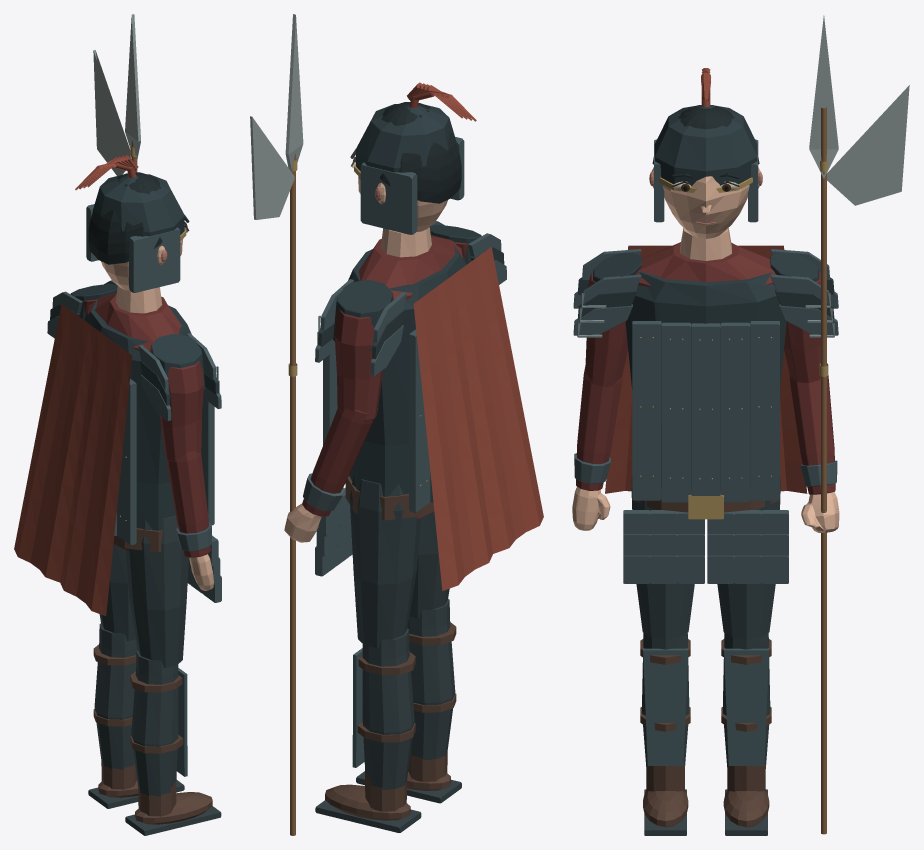
File: night_guard.glb
The picture shows the model from 3 angles, left to right: view 1: azimuth 30°, elevation 25°; view 2: azimuth 150°, elevation 25°; view 3: azimuth 270°, elevation 25°; orthographic projection. The views are drawn at different scales.
Parts seen in each view (by area): view 1: Cape, Chest, Head, Arm_L, Shin_L, Leg_L, Shin_R, Halberd, Fore_L, Foot_L, Leg_R, Foot_R (+3 smaller); view 2: Cape, Chest, Head, Leg_R, Halberd, Arm_R, Shin_R, Shin_L, Fore_R, Foot_R, Leg_L, Tasset_R (+3 smaller); view 3: Chest, Head, Halberd, Arm_L, Shin_R, Shin_L, Arm_R, Tasset_L, Tasset_R, Cape, Fore_L, Fore_R (+6 smaller).
Part boxes in pixels (box(x1,y1,x2,y2)): Cape: box(14, 304, 132, 616); Chest: box(84, 286, 214, 552); Head: box(75, 154, 189, 292); Arm_L: box(138, 333, 221, 461); Shin_L: box(130, 650, 187, 796); Leg_L: box(126, 515, 188, 667); Shin_R: box(93, 623, 137, 769); Halberd: box(93, 14, 140, 175); Fore_L: box(166, 450, 211, 557); Foot_L: box(125, 776, 221, 835); Leg_R: box(99, 544, 135, 640); Foot_R: box(88, 760, 184, 808); Cape: box(413, 247, 543, 590); Chest: box(323, 227, 466, 520); Head: box(350, 82, 476, 234); Leg_R: box(349, 474, 420, 647); Halberd: box(250, 14, 303, 835); Arm_R: box(315, 279, 406, 420); Shin_R: box(352, 628, 415, 789); Shin_L: box(407, 599, 456, 760); Fore_R: box(302, 408, 378, 516); Foot_R: box(315, 771, 421, 832); Leg_L: box(409, 511, 449, 618); Tasset_R: box(315, 487, 352, 576); Chest: box(625, 228, 786, 519); Head: box(649, 68, 762, 238); Halberd: box(809, 15, 909, 834); Arm_L: box(573, 249, 641, 386); Shin_R: box(721, 633, 771, 768); Shin_L: box(640, 633, 690, 766); Arm_R: box(770, 249, 838, 382); Tasset_L: box(623, 510, 704, 583); Tasset_R: box(707, 510, 788, 583); Cape: box(605, 245, 807, 493); Fore_L: box(574, 365, 622, 490); Fore_R: box(789, 375, 837, 494).
Bounding box in the file's own units: 0.2857 × 1.42 × 0.5303.
